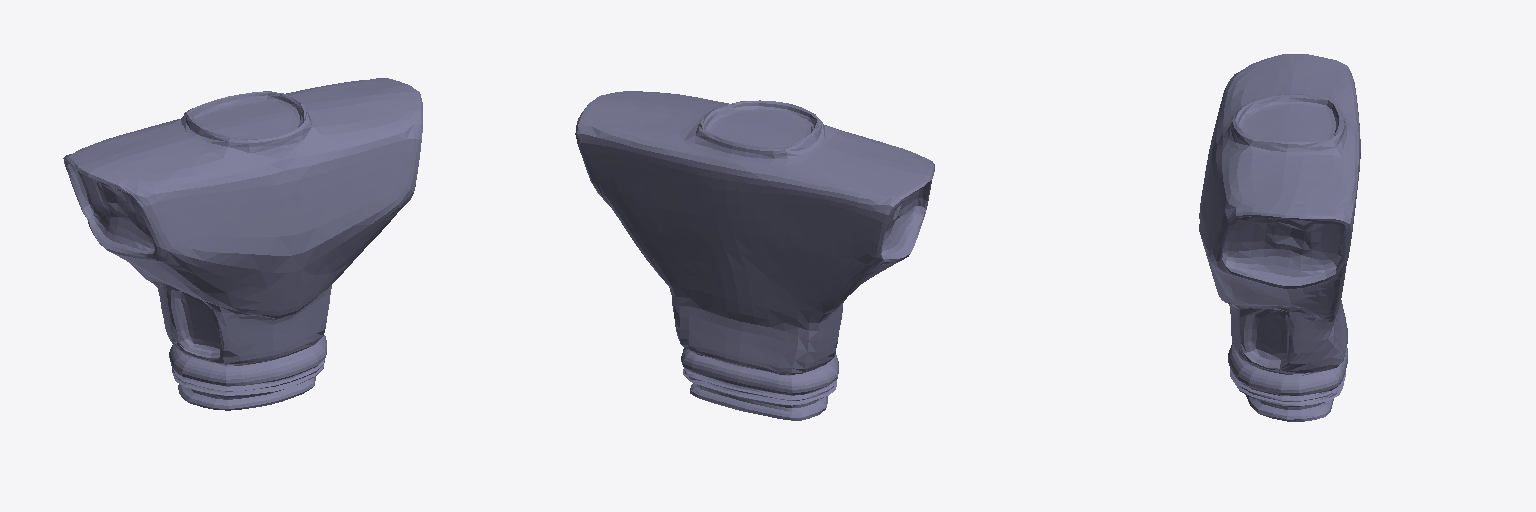
The model's file is robot_torso.obj.
The picture shows the model from 3 angles: view 1: azimuth 30°, elevation 25°; view 2: azimuth 150°, elevation 25°; view 3: azimuth 270°, elevation 25°; orthographic projection.
Visible parts, largest first — view 1: torso; view 2: torso; view 3: torso.
Part boxes in pixels (x1,y1,x2,y2): torso: (63,78,422,410); torso: (575,91,934,420); torso: (1199,54,1360,421).
Size of the model in its own units: 17.16 by 13.49 by 7.15.